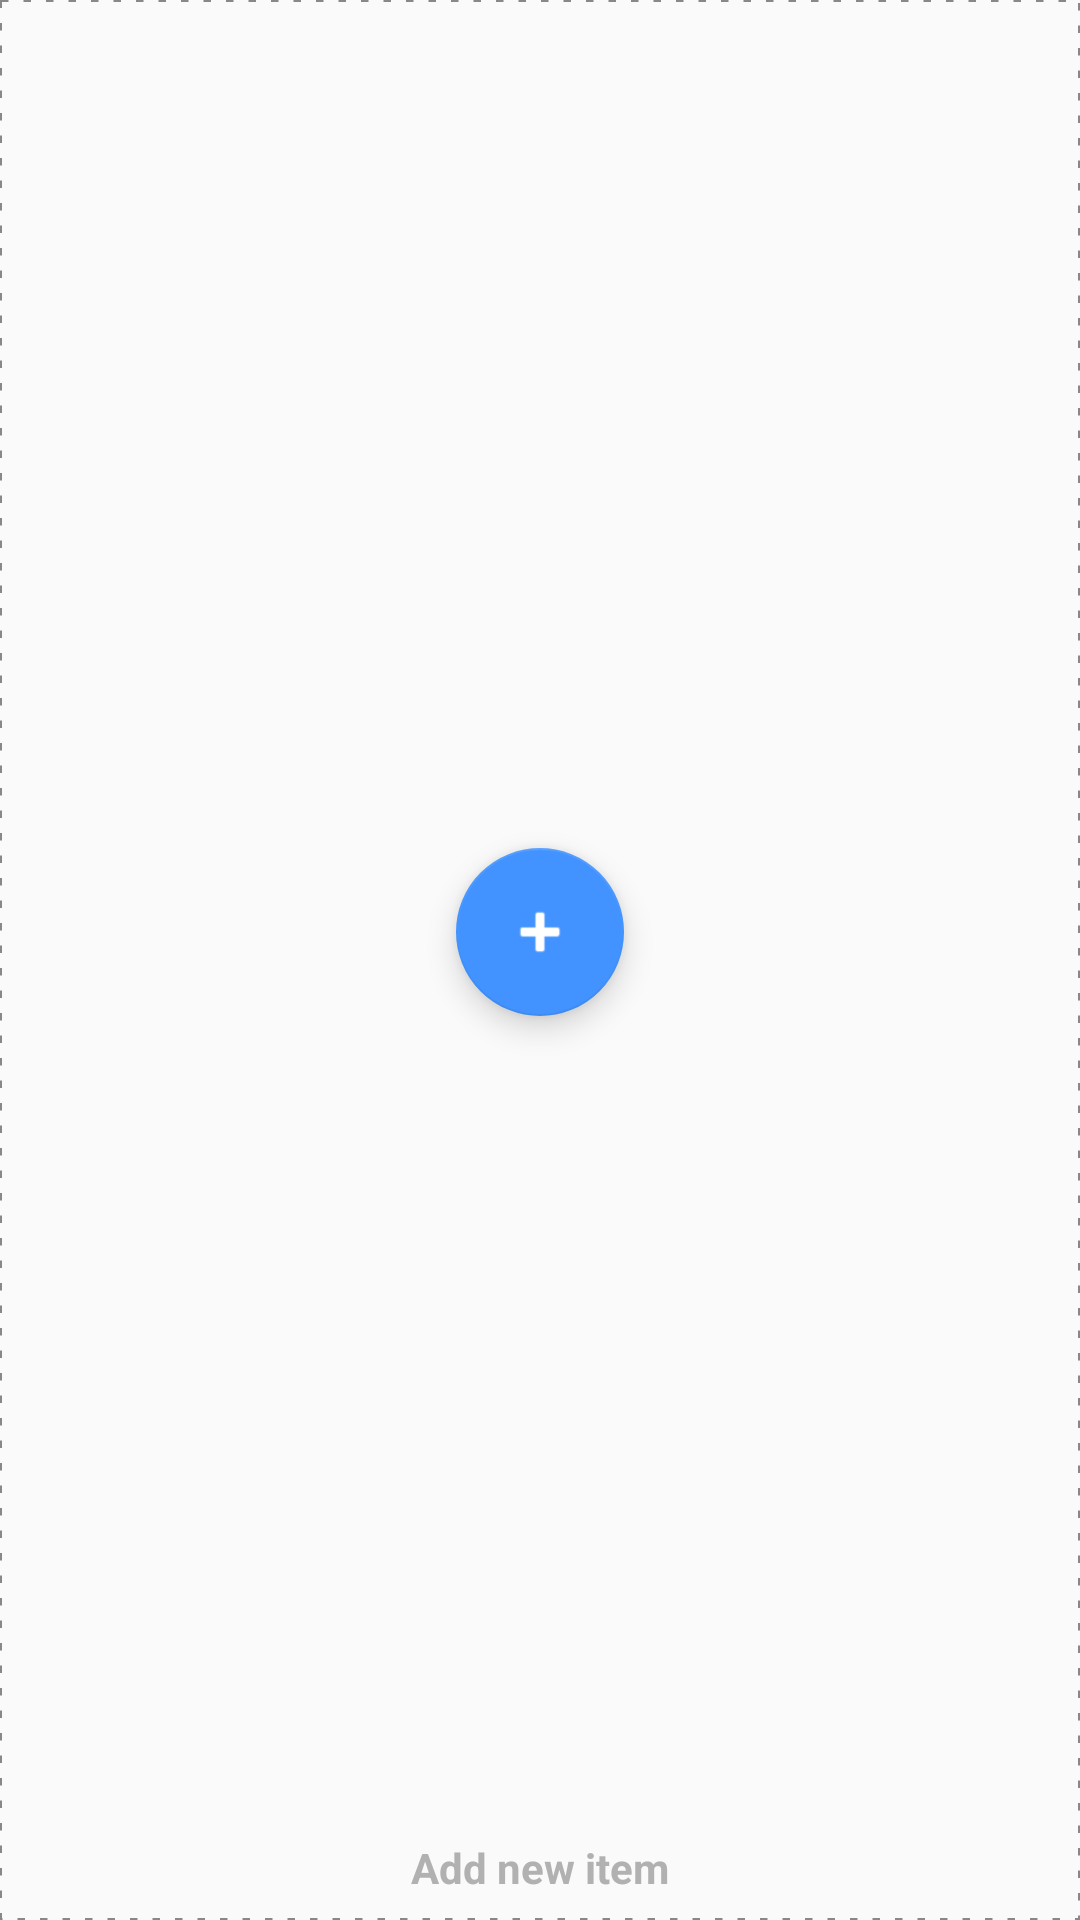

Icon bounding boxes for this 1080w x 1920h phone screenshot, format (x1,y1,x2,y2):
add: (456,848,624,1016)
